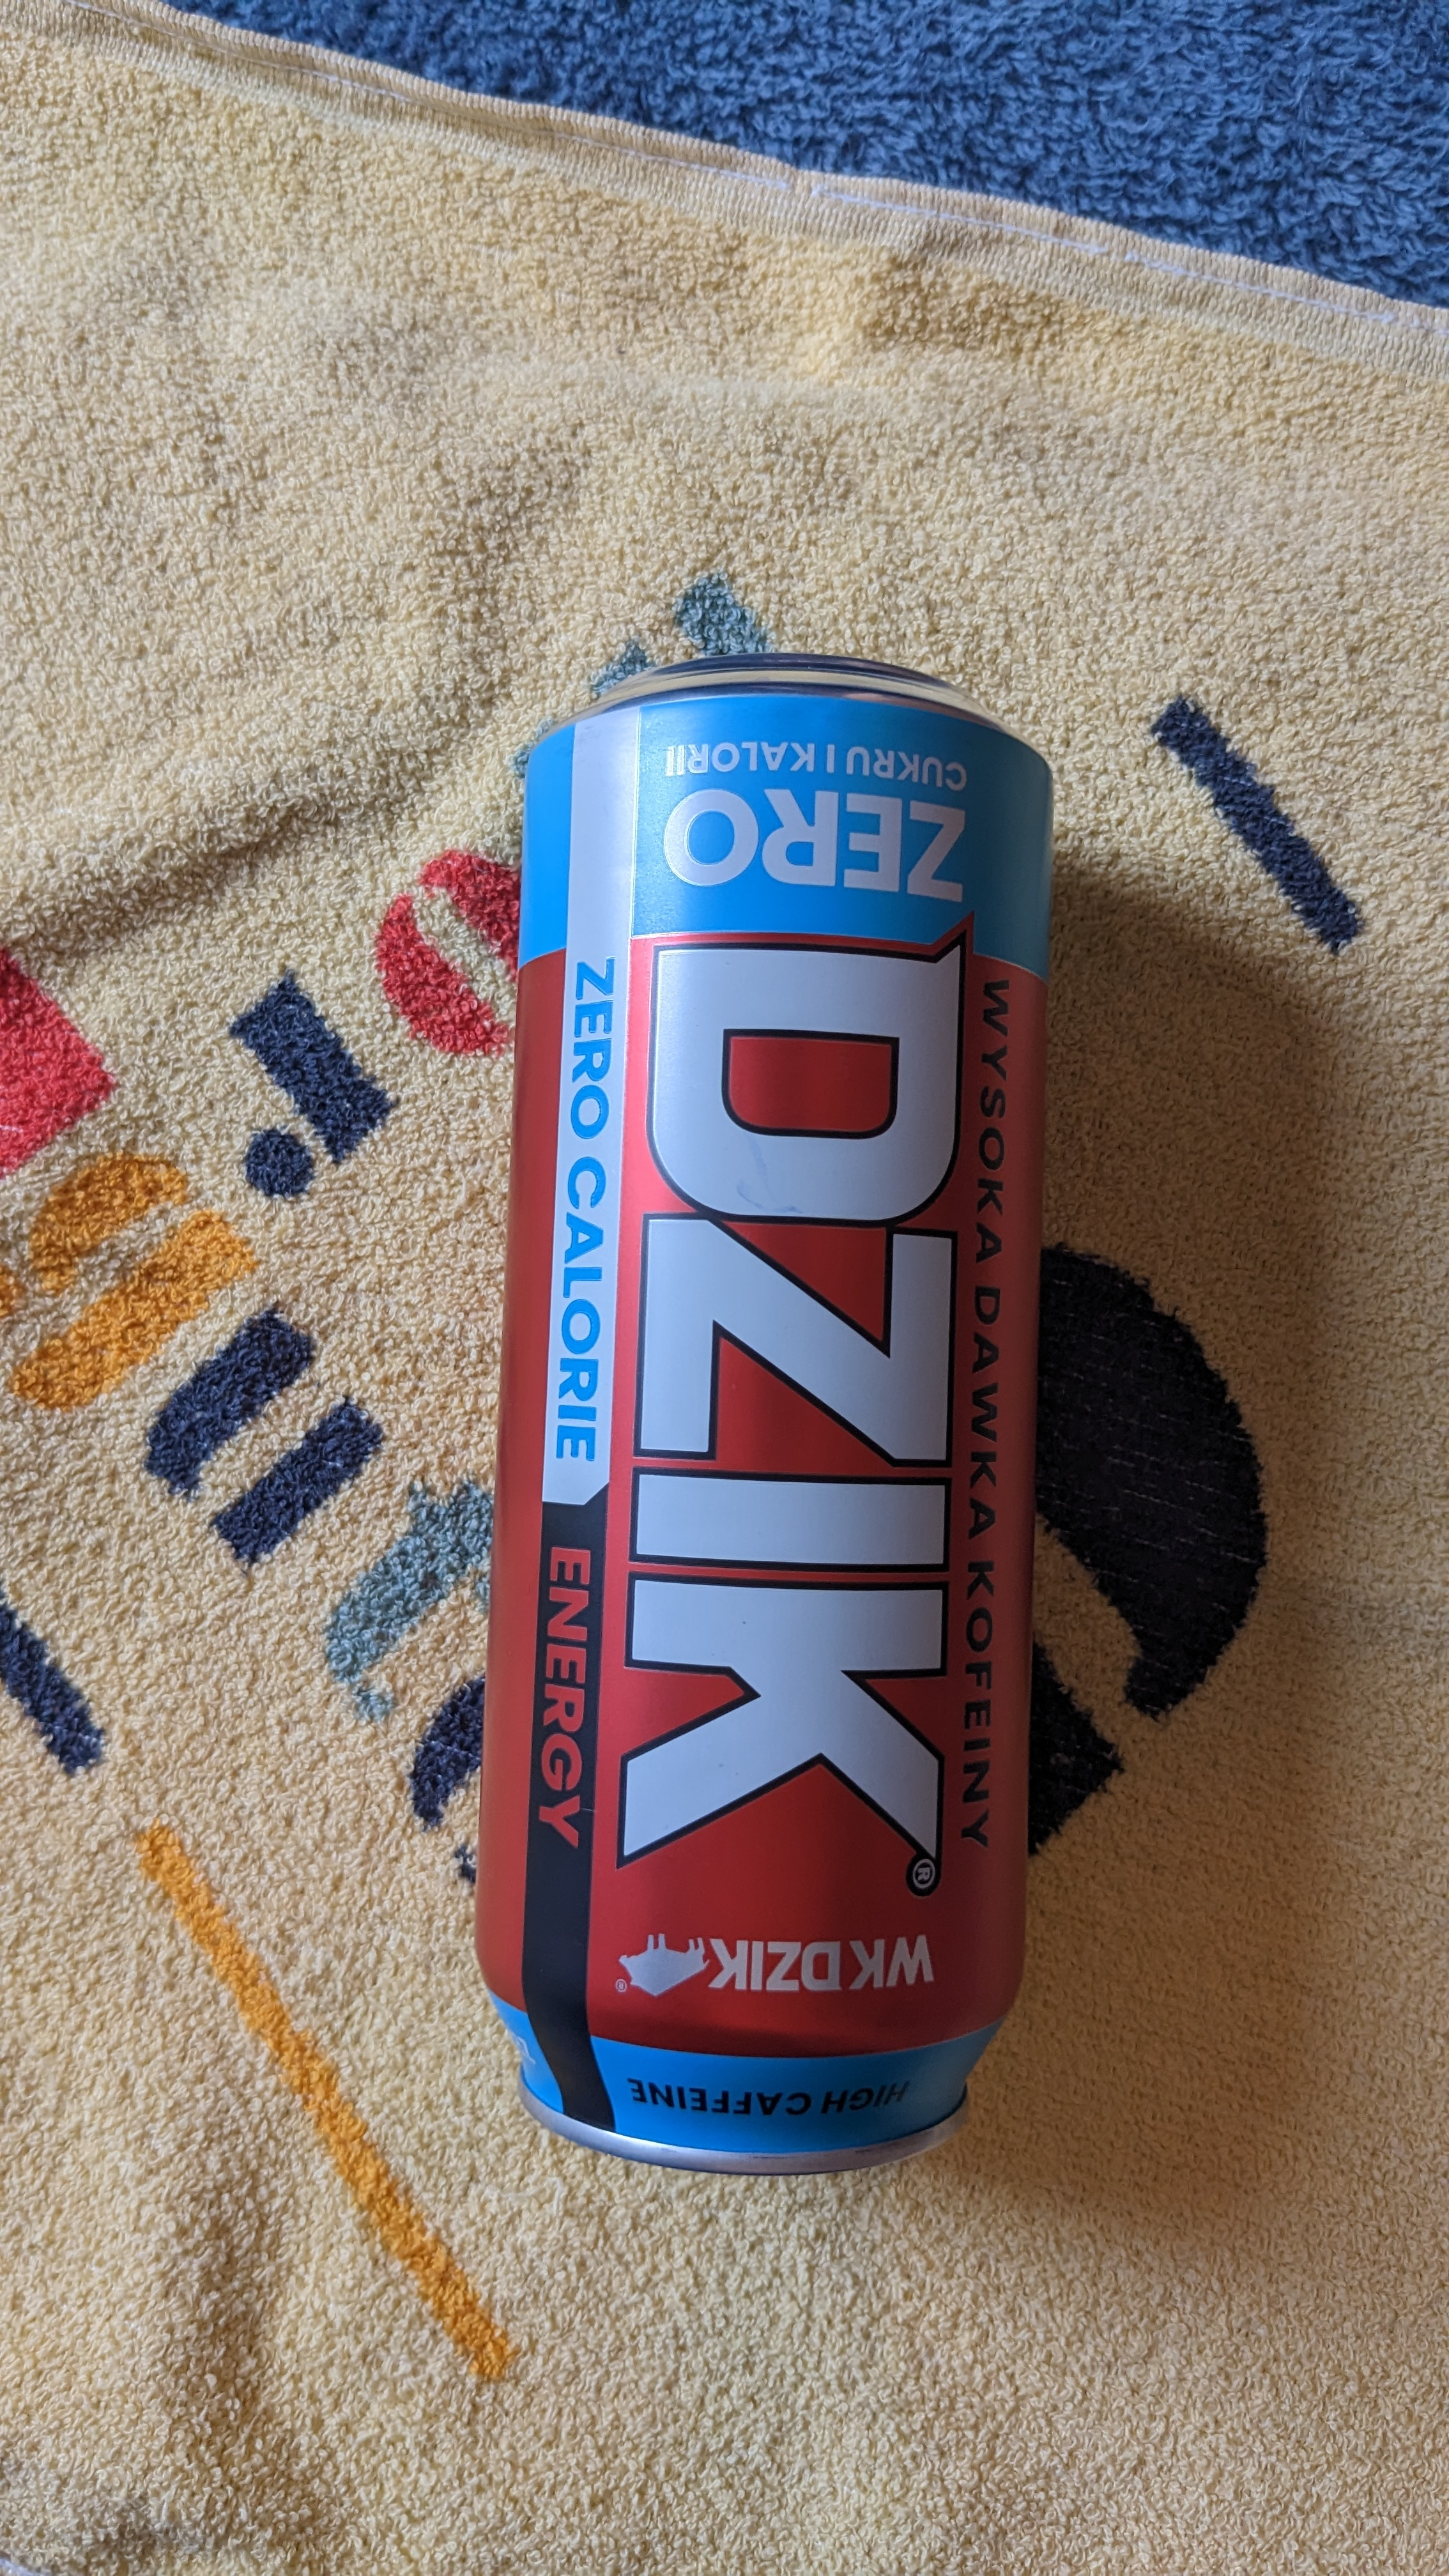dzik: (476, 665, 1053, 2220)
